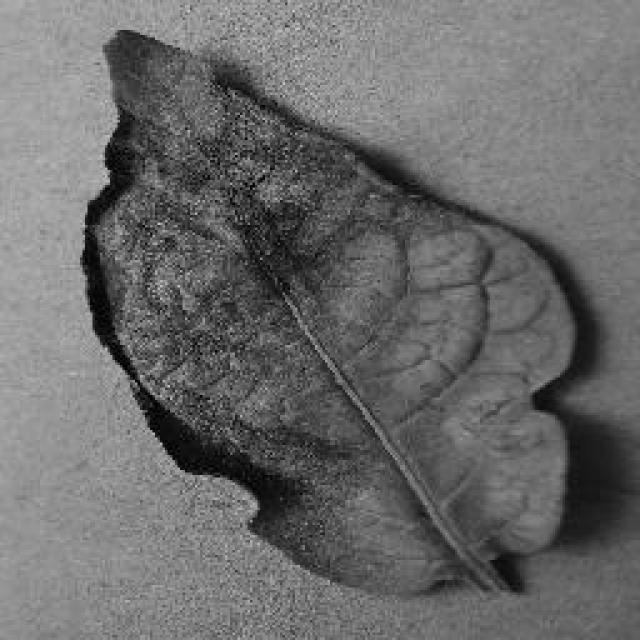Potato: (80, 25, 580, 597)
